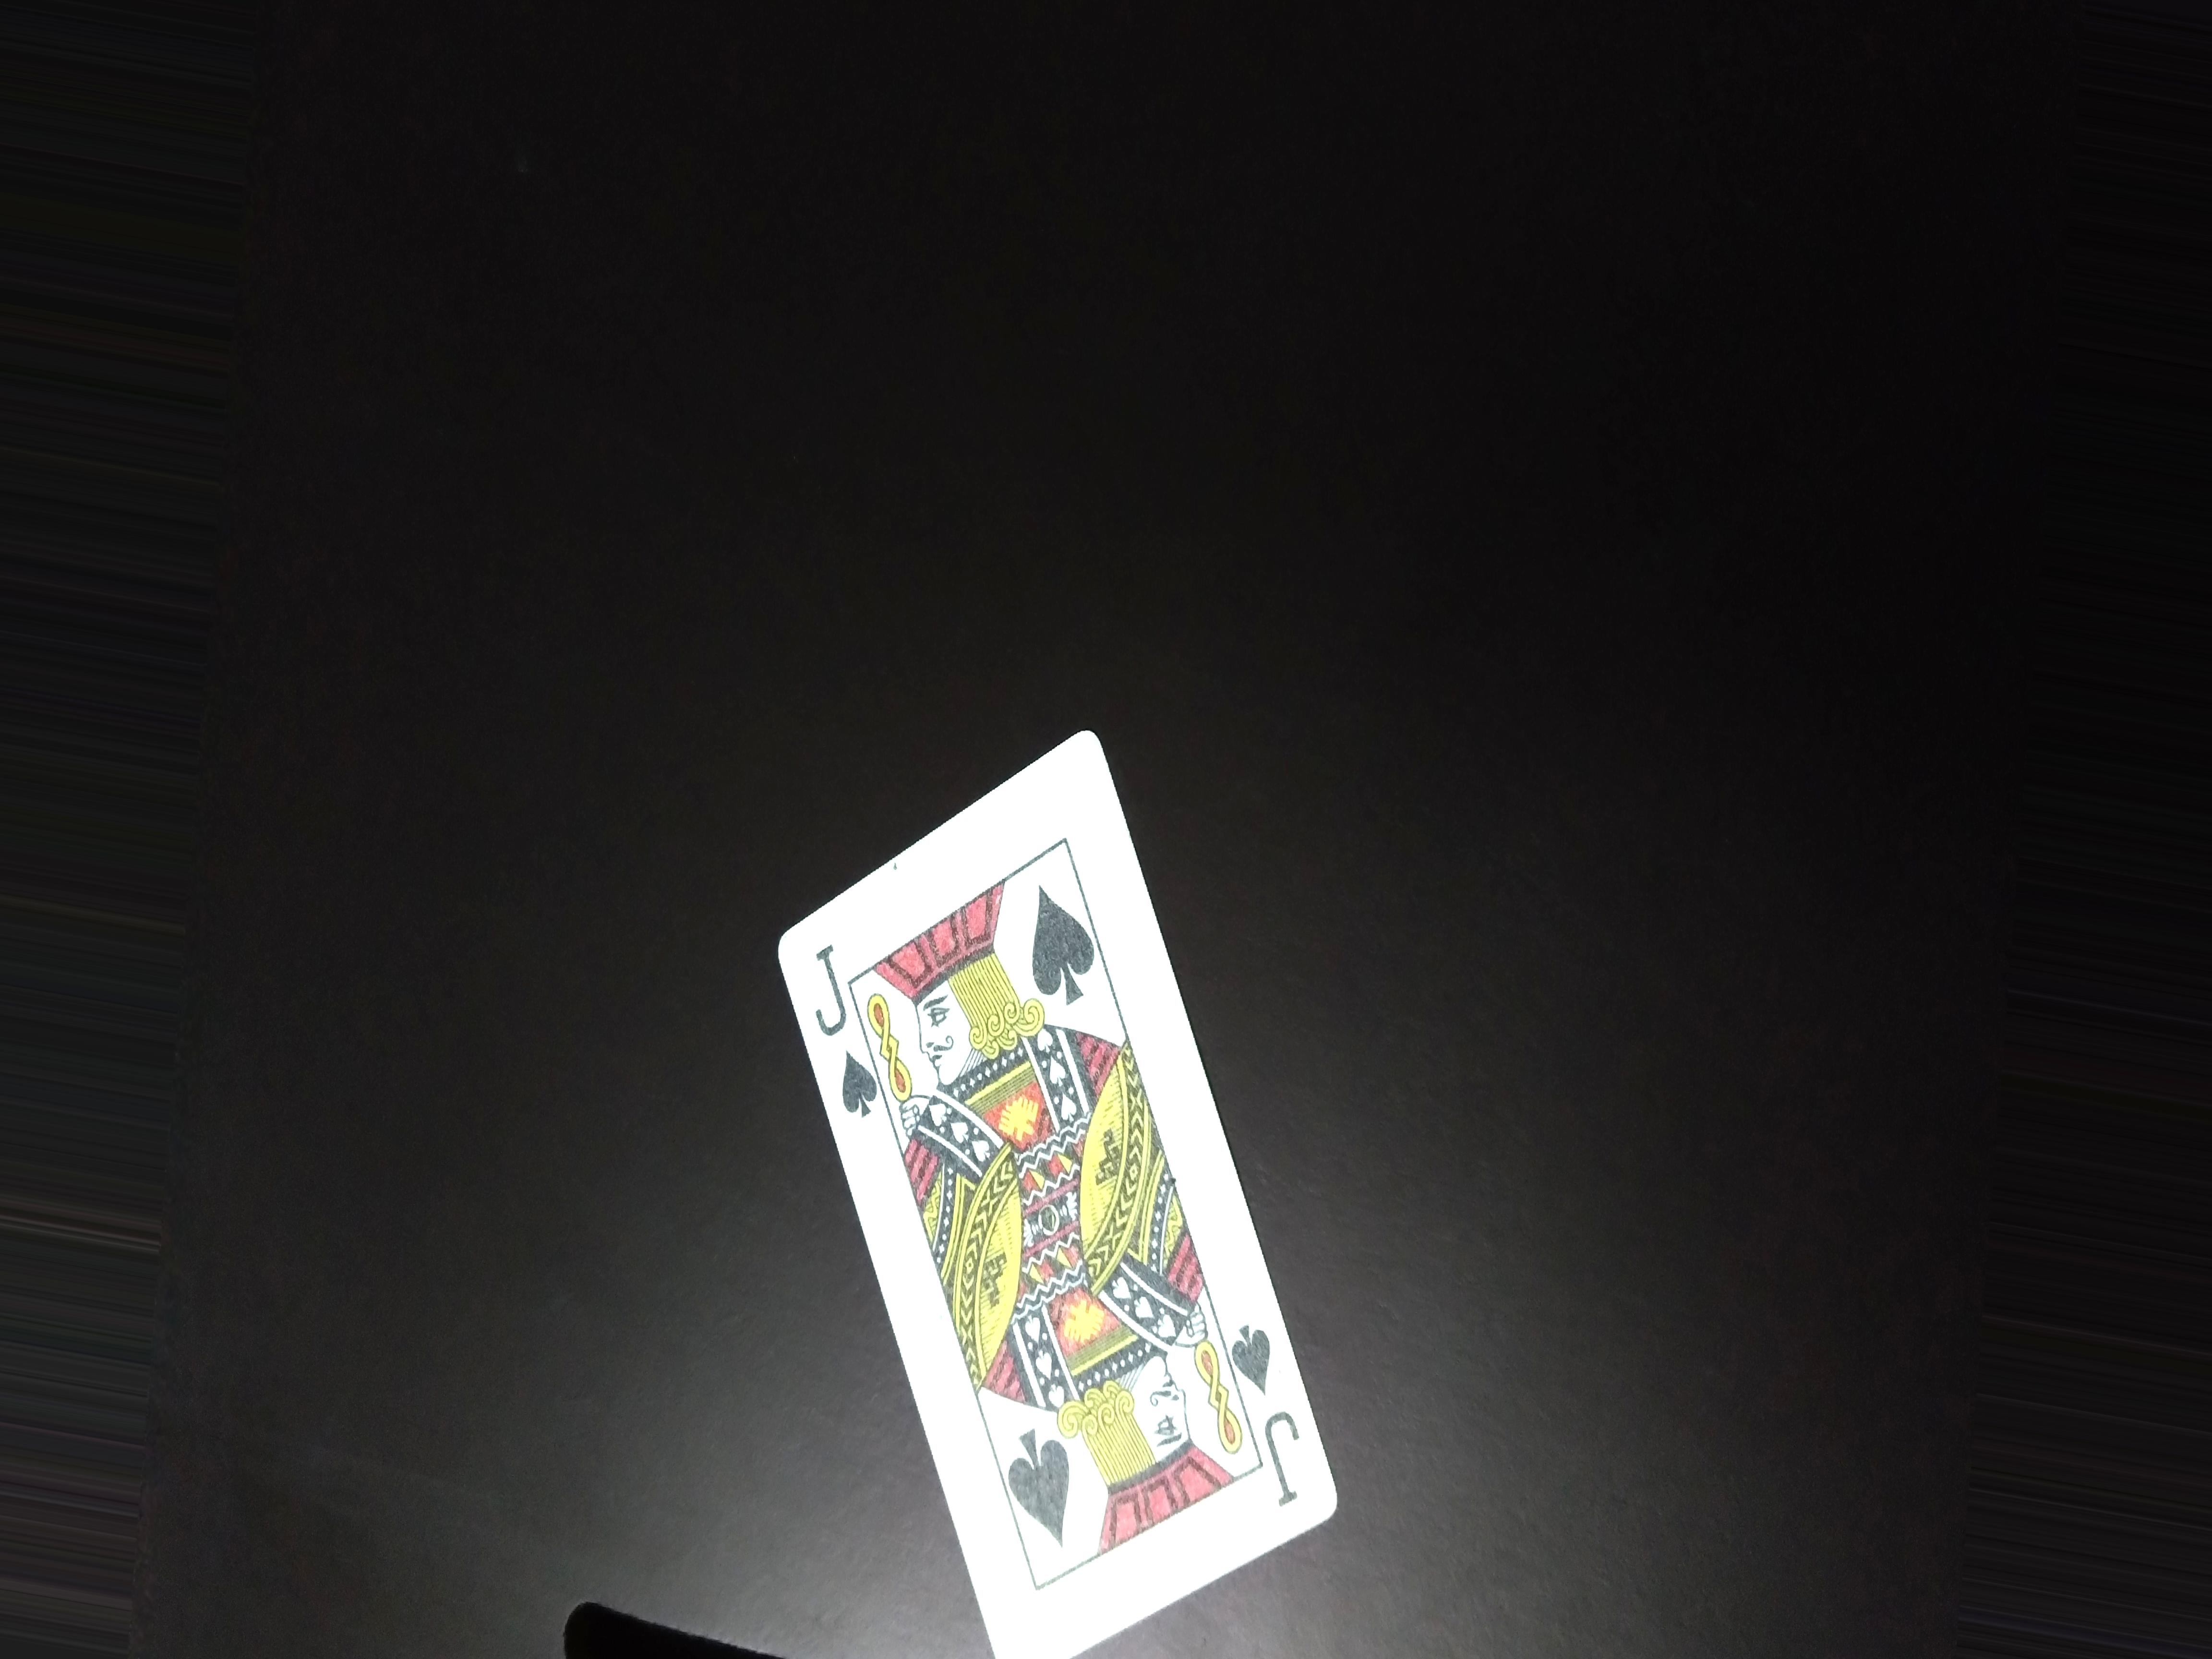JS: (796, 911, 885, 1122)
